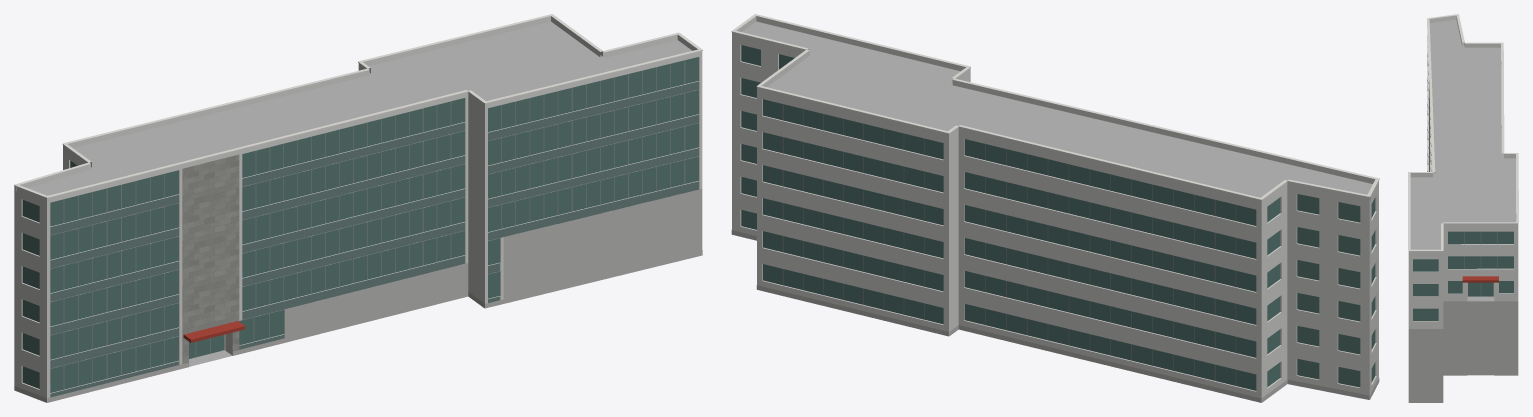
3 views of the same model, side by side, from view 1: azimuth 30°, elevation 25°; view 2: azimuth 150°, elevation 25°; view 3: azimuth 270°, elevation 25° (orthographic). The views are drawn at different scales.
Visible parts, largest first — view 1: medicine2__glass, medicine2__roof, medicine2__spandrel, medicine2__base, medicine2__wall, medicine2__wall2, medicine2__frame, medicine2__parapet, medicine2__trim, medicine2__canopy; view 2: medicine2__wall, medicine2__glass, medicine2__roof, medicine2__parapet, medicine2__trim, medicine2__base, medicine2__frame; view 3: medicine2__roof, medicine2__base, medicine2__wall, medicine2__glass, medicine2__trim, medicine2__parapet, medicine2__canopy, medicine2__frame.
Boxes of the visible parts, bbox=[...] form: medicine2__glass: bbox=[22, 57, 698, 392]; medicine2__roof: bbox=[28, 21, 691, 366]; medicine2__spandrel: bbox=[50, 81, 699, 397]; medicine2__base: bbox=[14, 189, 702, 402]; medicine2__wall: bbox=[14, 55, 702, 402]; medicine2__wall2: bbox=[182, 154, 239, 363]; medicine2__frame: bbox=[50, 60, 698, 389]; medicine2__parapet: bbox=[14, 16, 702, 202]; medicine2__trim: bbox=[14, 14, 702, 198]; medicine2__canopy: bbox=[183, 321, 245, 342]; medicine2__wall: bbox=[732, 37, 1378, 402]; medicine2__glass: bbox=[741, 45, 1375, 390]; medicine2__roof: bbox=[742, 21, 1372, 197]; medicine2__parapet: bbox=[732, 16, 1378, 204]; medicine2__trim: bbox=[731, 14, 1379, 200]; medicine2__base: bbox=[731, 230, 1379, 402]; medicine2__frame: bbox=[782, 104, 1236, 385]; medicine2__roof: bbox=[1410, 19, 1516, 301]; medicine2__base: bbox=[1408, 171, 1518, 402]; medicine2__wall: bbox=[1408, 36, 1518, 328]; medicine2__glass: bbox=[1413, 231, 1513, 320]; medicine2__trim: bbox=[1408, 14, 1518, 251]; medicine2__parapet: bbox=[1408, 15, 1518, 254]; medicine2__canopy: bbox=[1462, 276, 1498, 282]; medicine2__frame: bbox=[1431, 160, 1497, 296].
Bounding box in the file's own units: 74.14 × 22.2 × 14.66.
11 materials, 1 textured.
